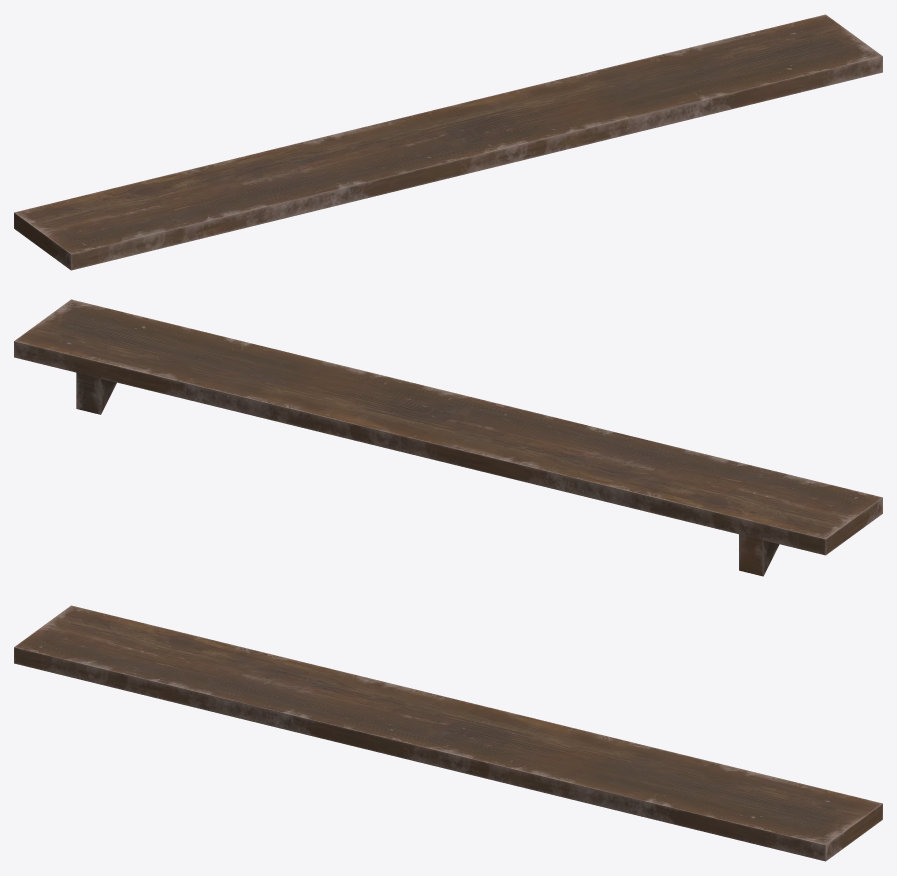
Rendered from wood-shelf.glb.
3 renders of one model, top to bottom at view 1: azimuth 30°, elevation 25°; view 2: azimuth 150°, elevation 25°; view 3: azimuth 330°, elevation 25°, orthographic.
Visible parts, largest first — view 1: SM_shelf.003_0; view 2: SM_shelf.003_0; view 3: SM_shelf.003_0.
Part boxes in pixels (x1,y1,x2,y2): SM_shelf.003_0: (14,14,882,270); SM_shelf.003_0: (14,299,882,576); SM_shelf.003_0: (14,605,882,861).
Size of the model in its own units: 1.71 by 0.1054 by 0.2084.
1 material, 1 textured.
